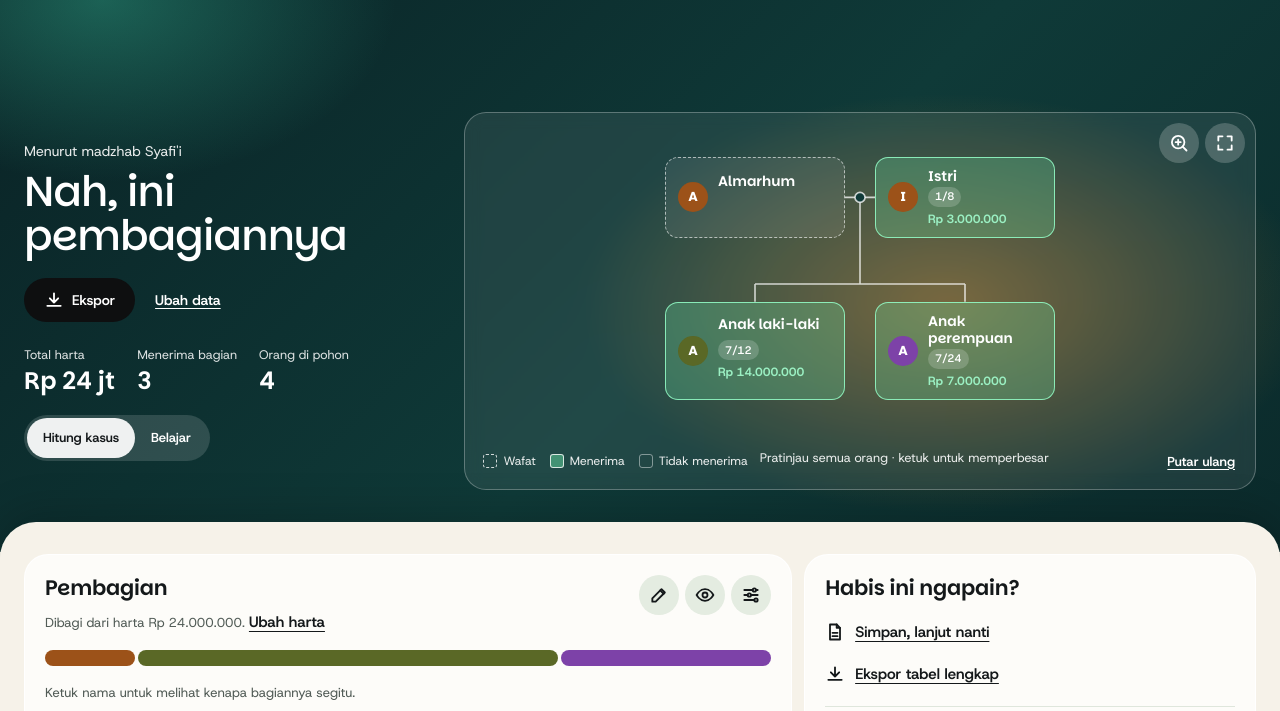
Test: layar hasil › kartu hanya ada bila kasusnya memuatnya: tanpa yang terhalang dan tanpa potongan, tidak ada kartu Tidak mendapat bagian maupun Harta
Note: Harta tetap bisa diubah dari kartu Pembagian.
Click the button "Ubah harta" at (287, 622), box left=249, top=602, right=325, bottom=642
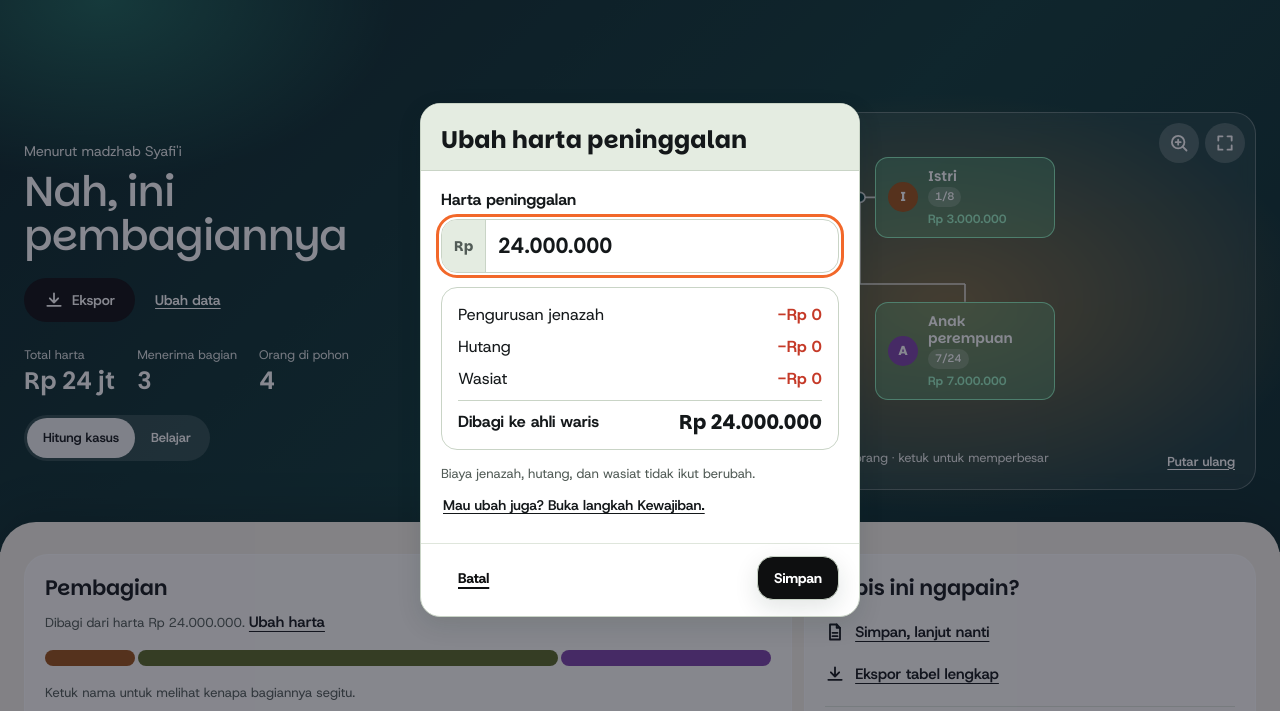
Expected: the dialog "Ubah harta peninggalan" is shown, left=420, top=103, right=860, bottom=617
